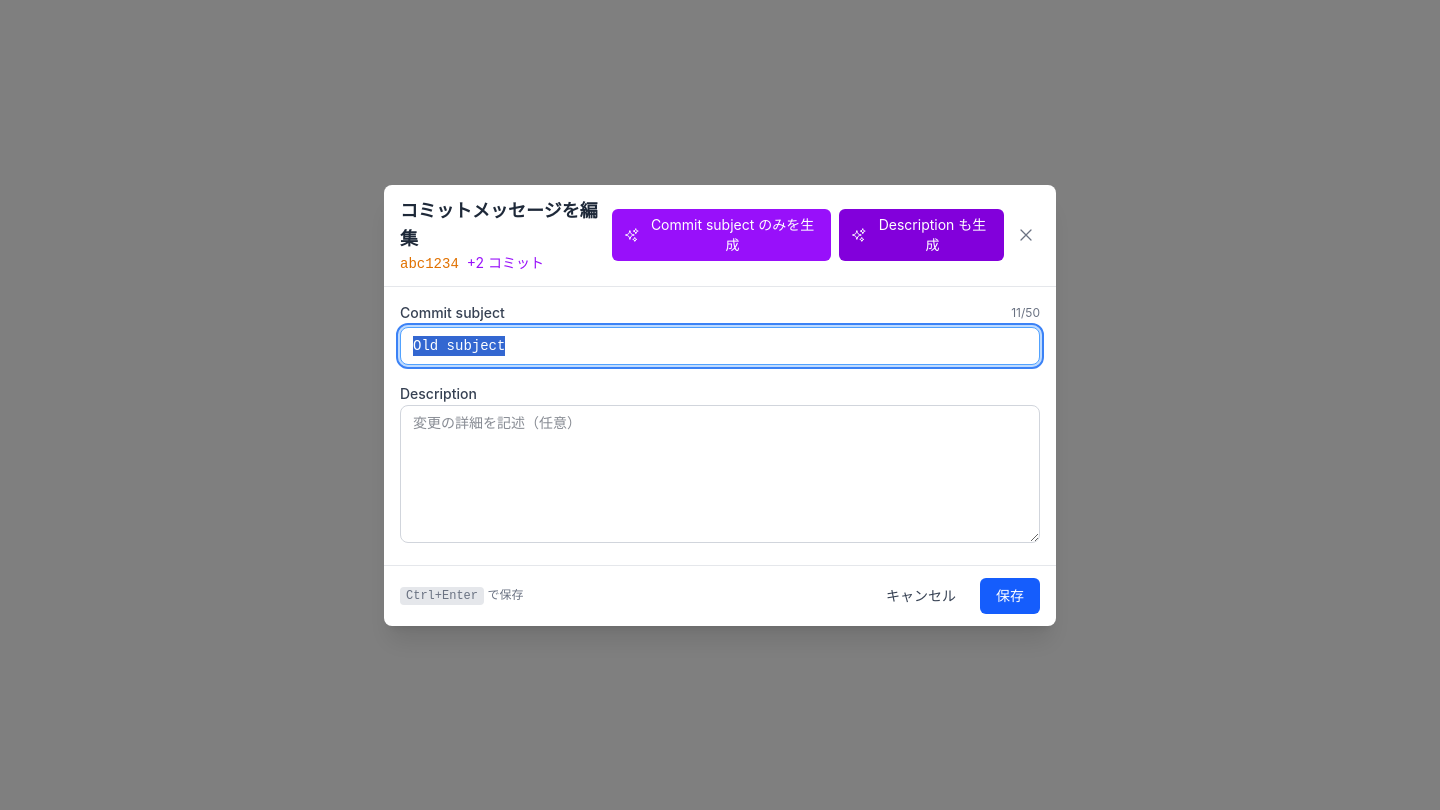
Scenario: RewordModal › AI 生成 › 関連コミットを含めて Description 付きメッセージを生成する
Click the button "Description も生成". click: (922, 235)
box: [839,209,1004,261]
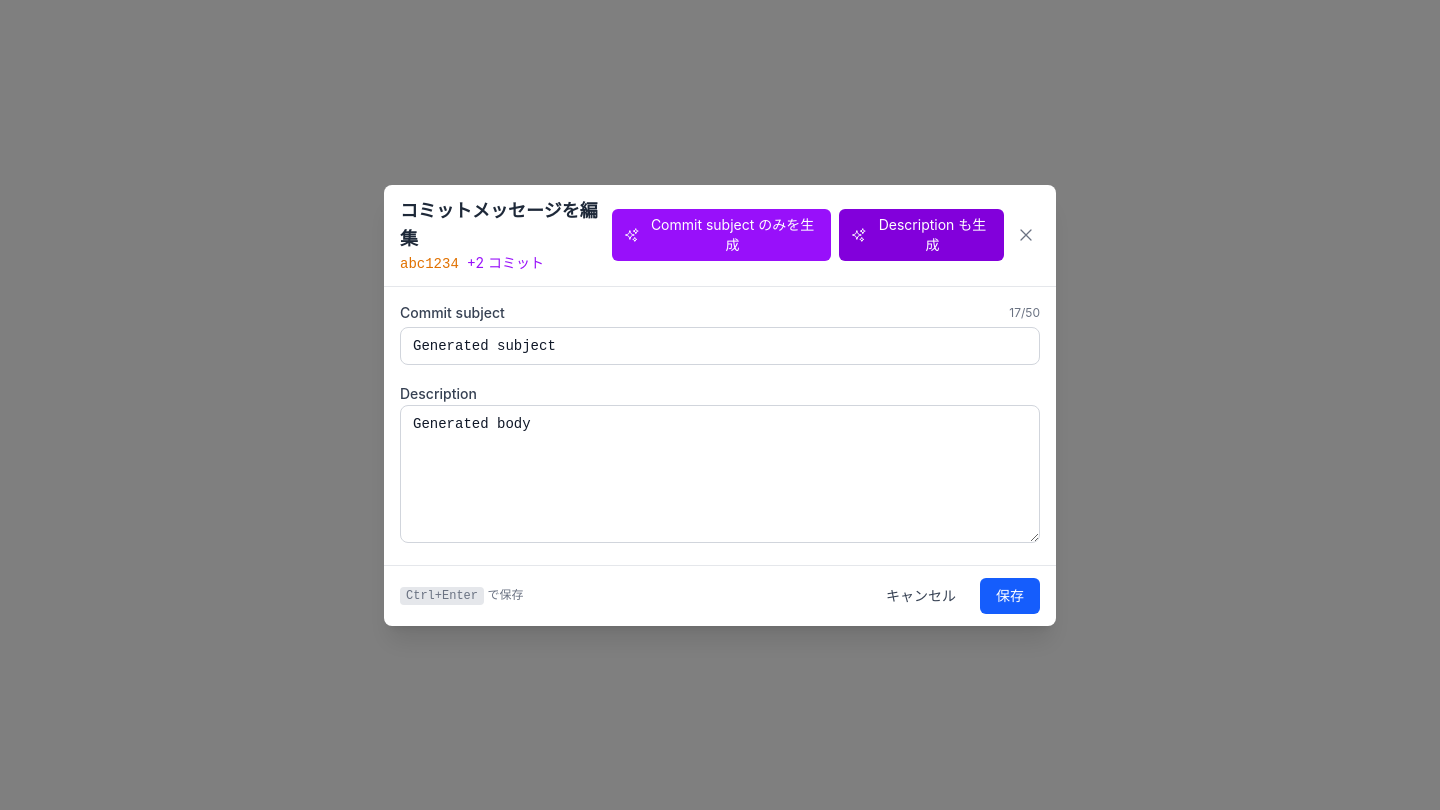
Check: the field labelled "Commit subject" holds "Generated subject", box [400,326,1040,364]
Check: the text box labelled "Description" holds "Generated body", box [400,404,1040,542]
